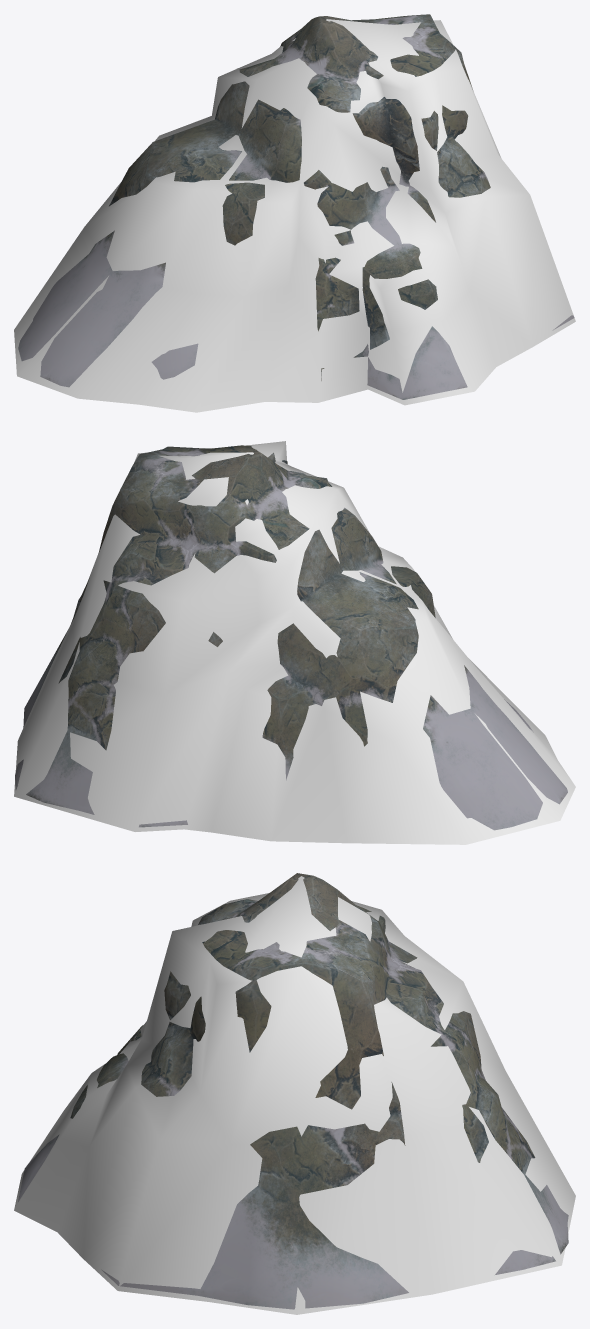
Rendered from Scene_Rock_XueShanShi_5.FBX.
3 views of the same model, one above another, from view 1: azimuth 30°, elevation 25°; view 2: azimuth 150°, elevation 25°; view 3: azimuth 270°, elevation 25° (orthographic). The views are drawn at different scales.
Parts seen in each view (by area): view 1: Scene_Rock_XueShanShi_5_Xzm, Scene_Rock_XueShanShi_5; view 2: Scene_Rock_XueShanShi_5_Xzm, Scene_Rock_XueShanShi_5; view 3: Scene_Rock_XueShanShi_5_Xzm, Scene_Rock_XueShanShi_5.
Boxes of the visible parts, x1,y1,x2,y2 form: Scene_Rock_XueShanShi_5_Xzm: (14,19,575,412); Scene_Rock_XueShanShi_5: (18,14,574,399); Scene_Rock_XueShanShi_5_Xzm: (14,441,575,844); Scene_Rock_XueShanShi_5: (15,445,567,830); Scene_Rock_XueShanShi_5_Xzm: (14,876,575,1314); Scene_Rock_XueShanShi_5: (18,873,568,1309).
Size of the model in its own units: 4099 by 2159 by 3399.
Materials: 1 (1 with a texture image).
